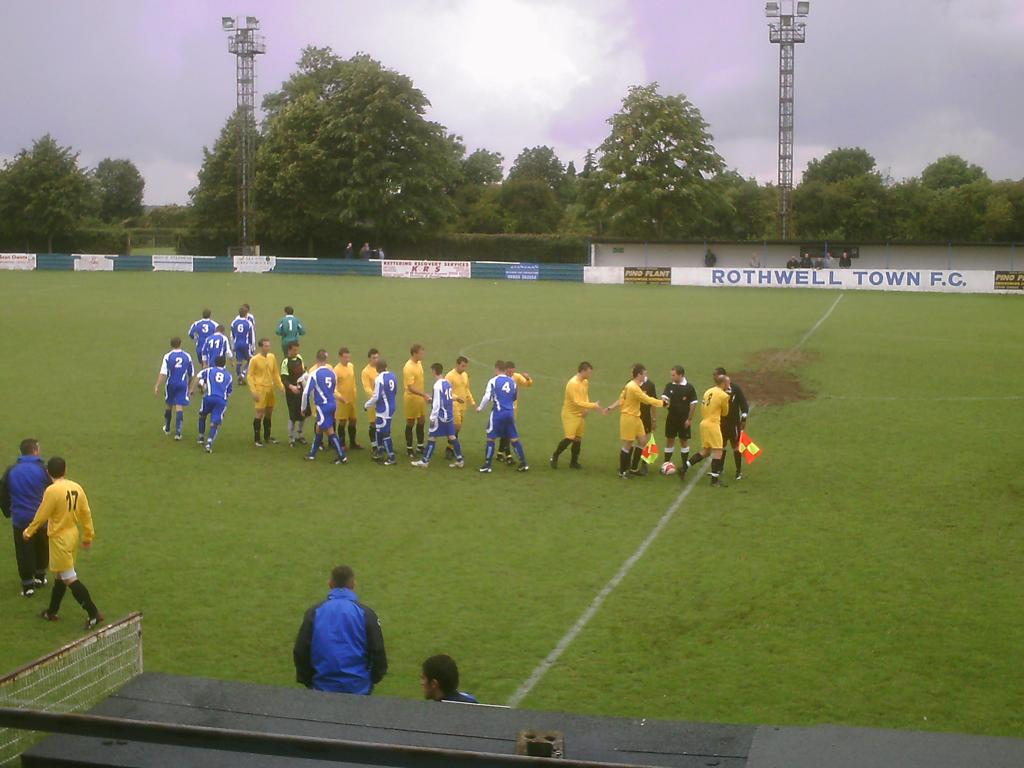face: (419, 667, 431, 698), (713, 369, 721, 382), (34, 442, 40, 458), (670, 369, 678, 380), (459, 362, 467, 372), (584, 367, 591, 378), (416, 348, 423, 359), (341, 352, 348, 363), (262, 341, 269, 352), (639, 369, 645, 381), (370, 354, 378, 363), (430, 367, 436, 379), (506, 367, 513, 376), (291, 346, 298, 355), (724, 377, 729, 387)
